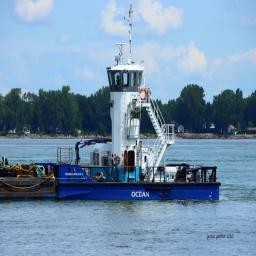tugboat: (33, 43, 224, 207)
